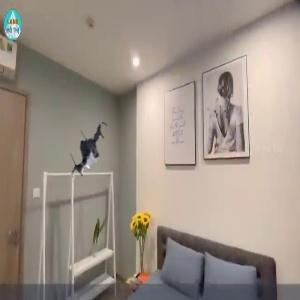drone: (58, 119, 121, 182)
